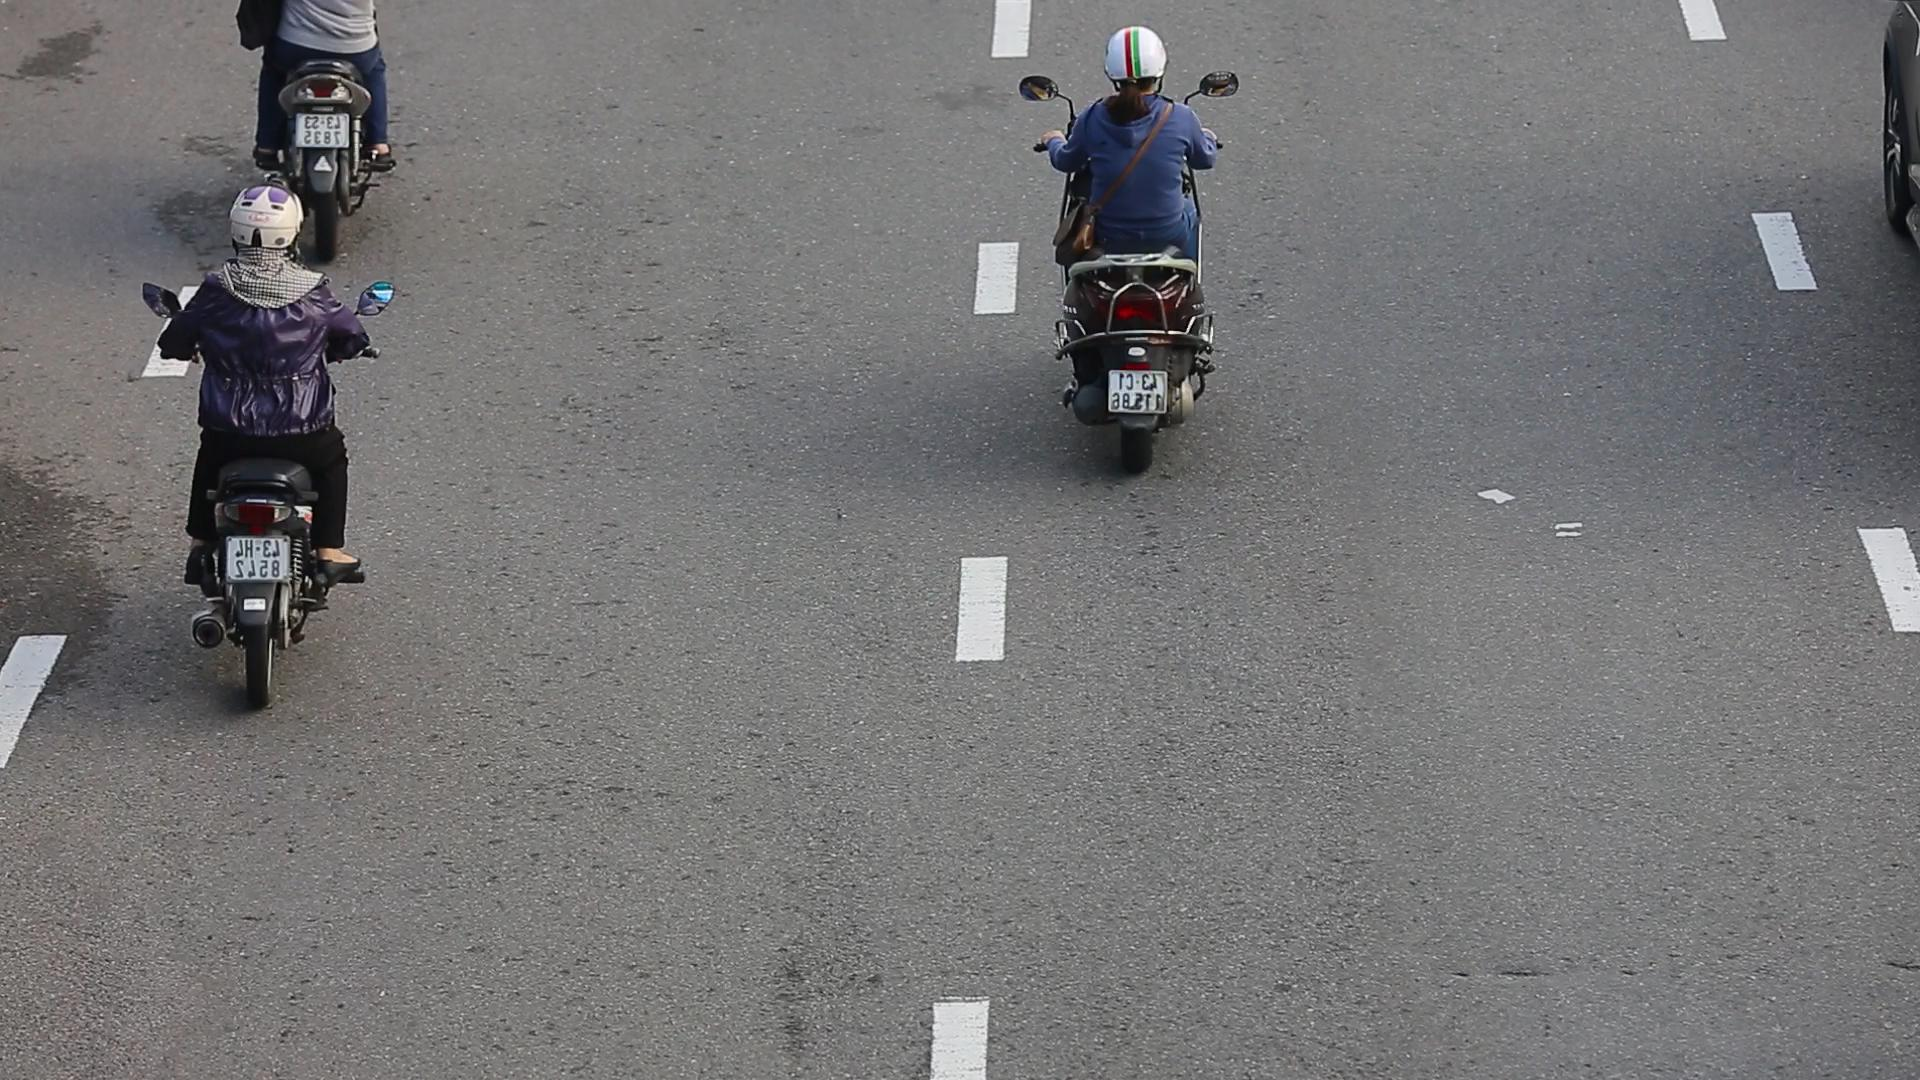motobike: (132, 187, 406, 712), (1004, 18, 1242, 480)
